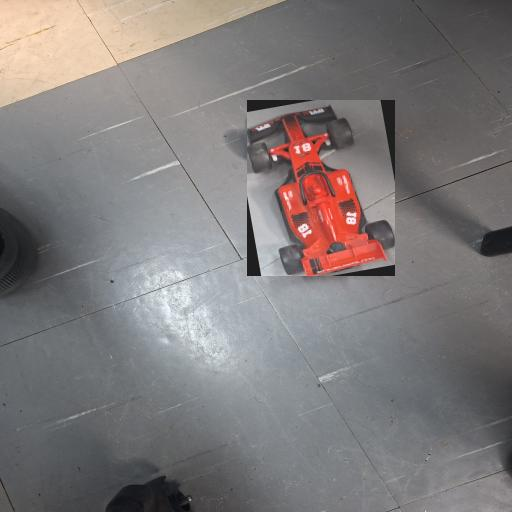carro: (247, 100, 395, 276)
